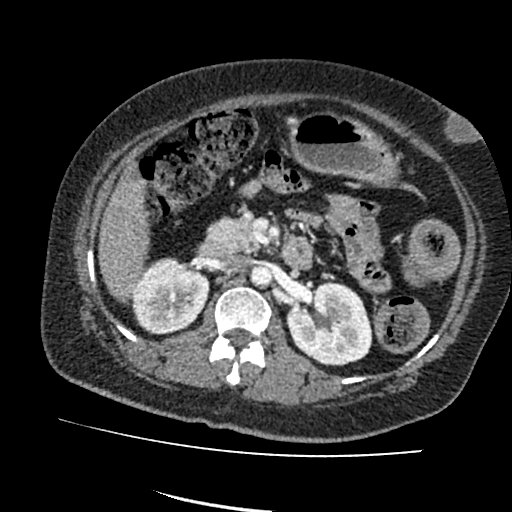aorta: (250, 263, 273, 289)
